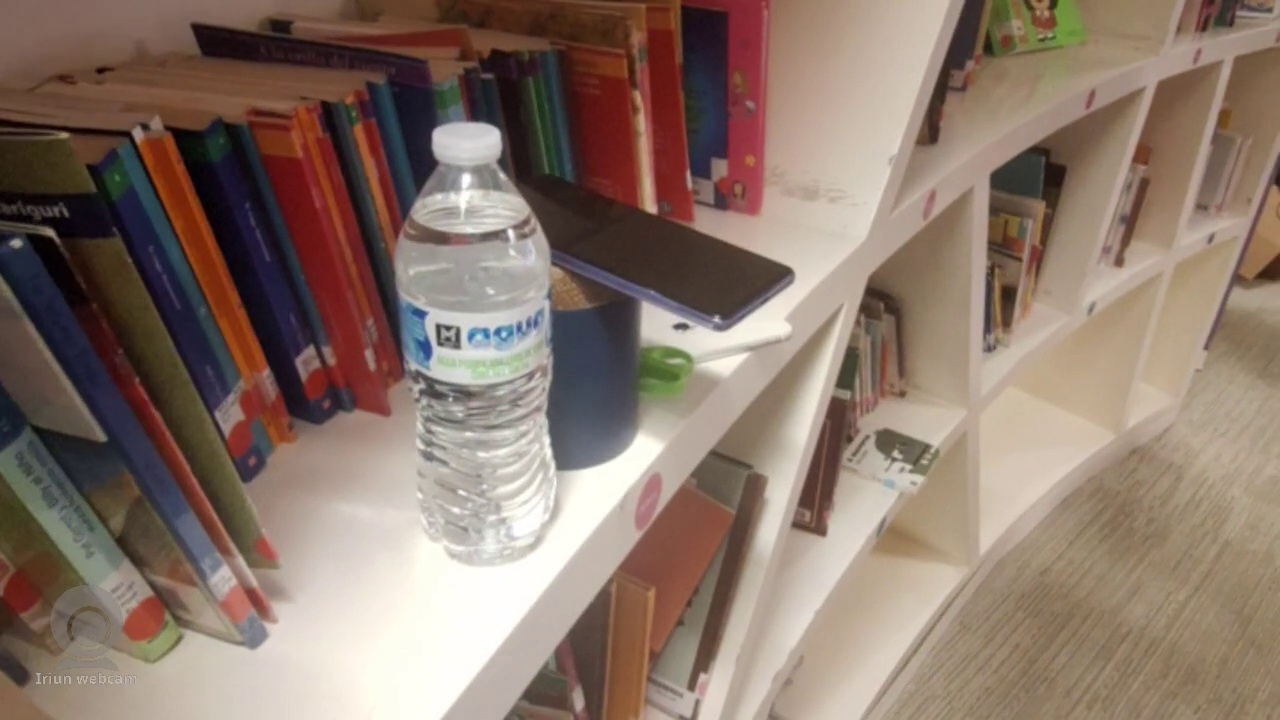botella: (395, 118, 559, 564)
